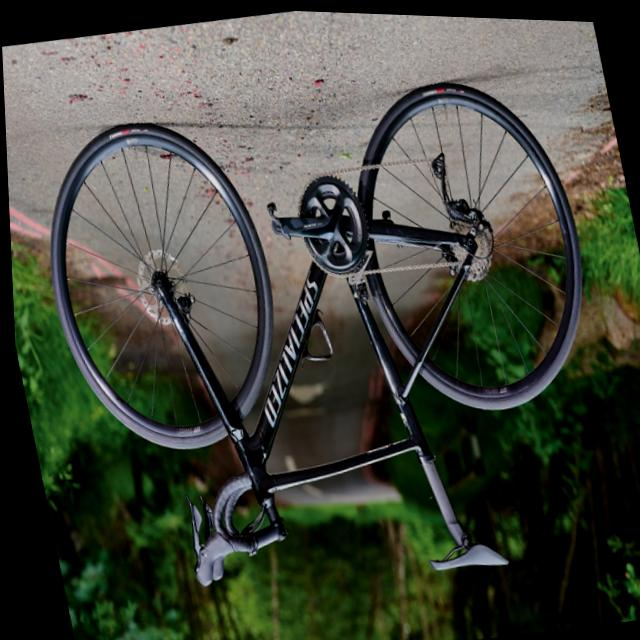road-bike: (17, 50, 639, 628)
